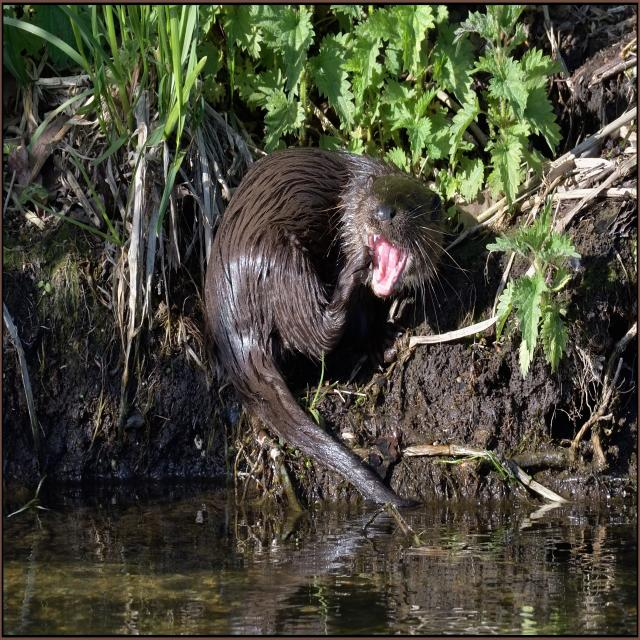otter: (208, 144, 447, 394)
